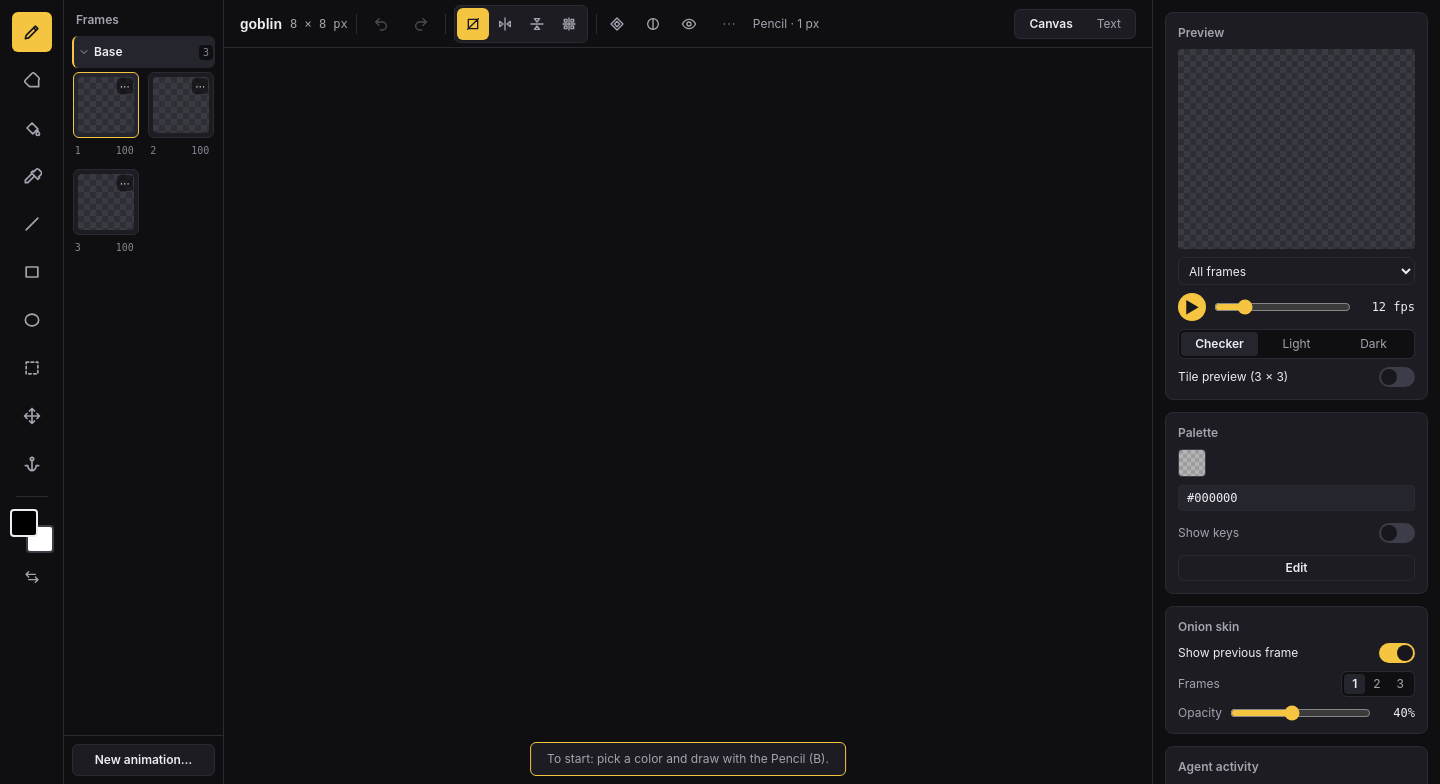
Test case: Canvas and Text switch › shows the same frame in the Text view
The image size is (1440, 784).
Click the button named "Frame 2" at (181, 105), box x1=148 y1=72 x2=214 y2=138
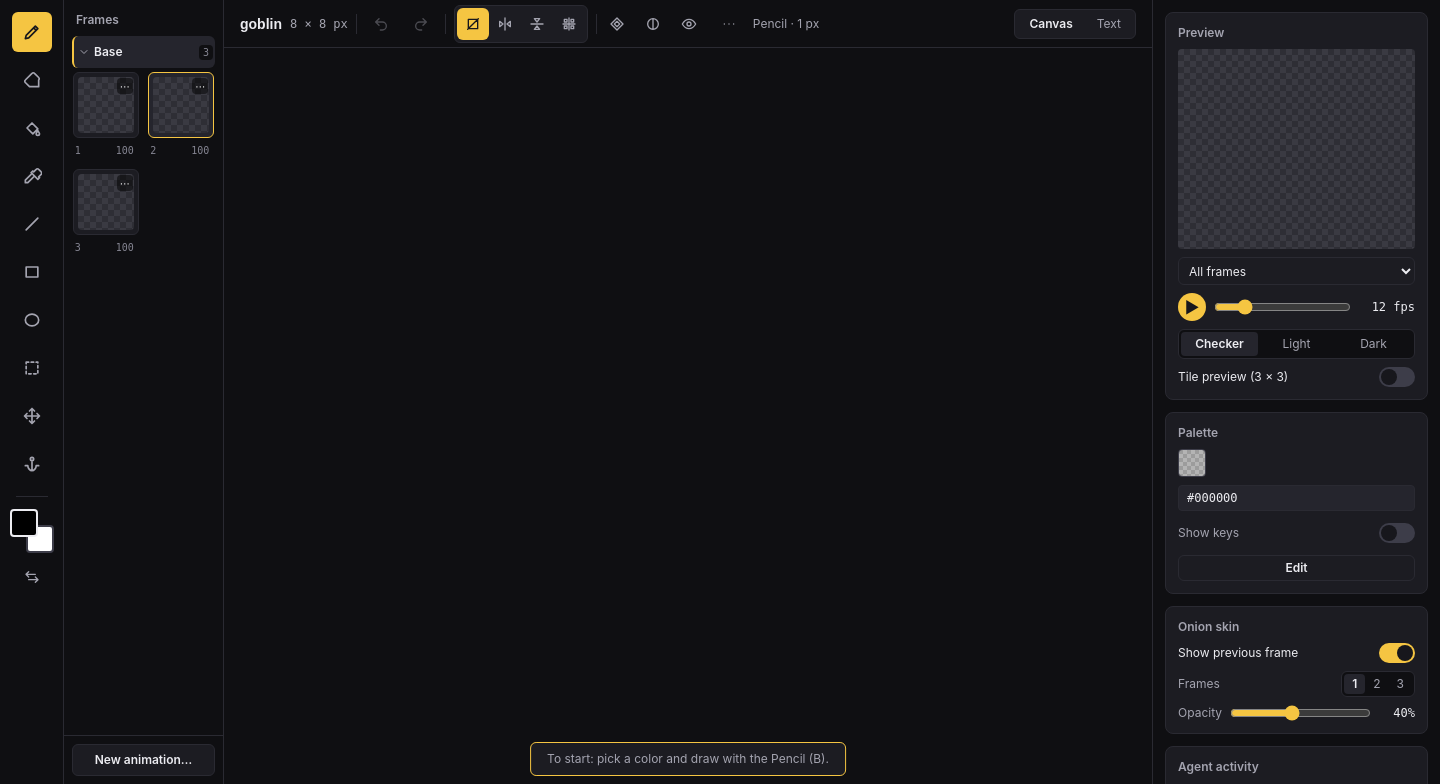
Click the button "Text" at (1109, 24), box x1=1085 y1=12 x2=1133 y2=36
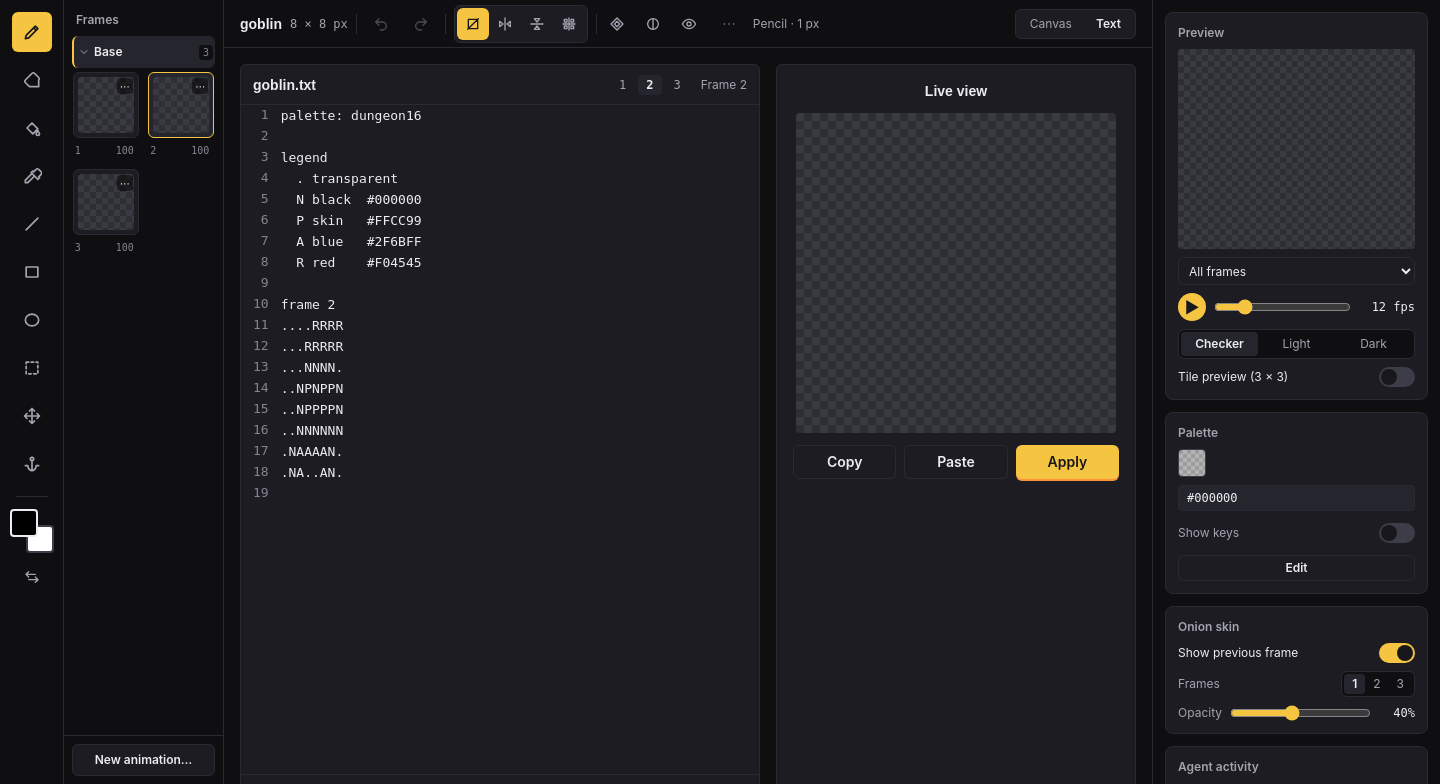
Result: the text box named "Text grid" is shown at x1=281 y1=105 x2=759 y2=504
Result: the text "goblin.txt" is shown at x1=253 y1=74 x2=316 y2=94
Result: the text "Frame 2" is shown at x1=701 y1=76 x2=747 y2=92
